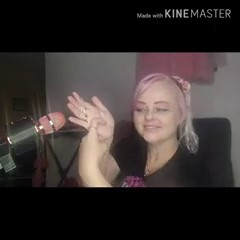R: (65, 90, 119, 167)
